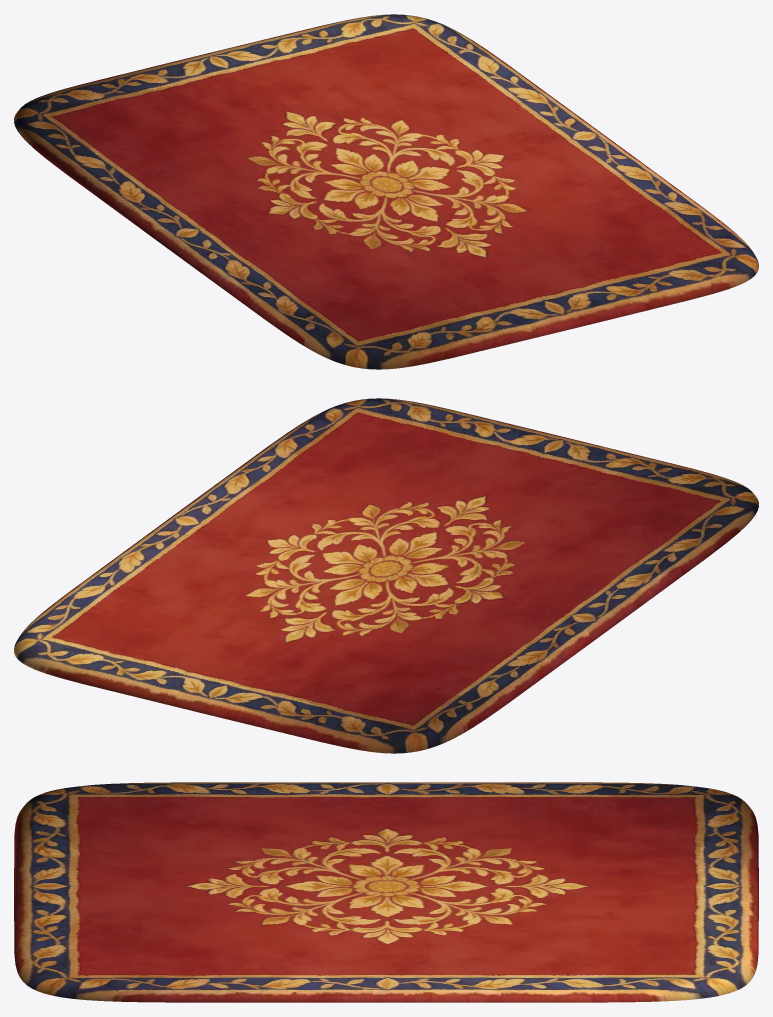
The model's file is wyn_furn_noble_carpet.glb.
3 views of the same model, one above another, from view 1: azimuth 30°, elevation 25°; view 2: azimuth 150°, elevation 25°; view 3: azimuth 270°, elevation 25° (orthographic).
Parts seen in each view (by area): view 1: furn_noble_carpet; view 2: furn_noble_carpet; view 3: furn_noble_carpet.
Boxes of the visible parts, x1,y1,x2,y2 form: furn_noble_carpet: (14,14,758,369); furn_noble_carpet: (14,398,758,753); furn_noble_carpet: (14,782,758,1002).
Bounding box in the file's own units: 2.2 × 0.0398 × 3.2.
Materials: 1 (1 with a texture image).
